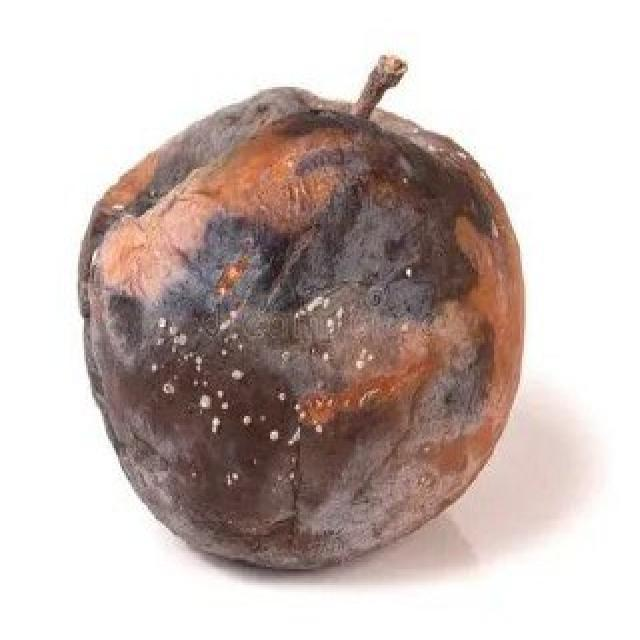Rotten: (66, 82, 544, 578)
